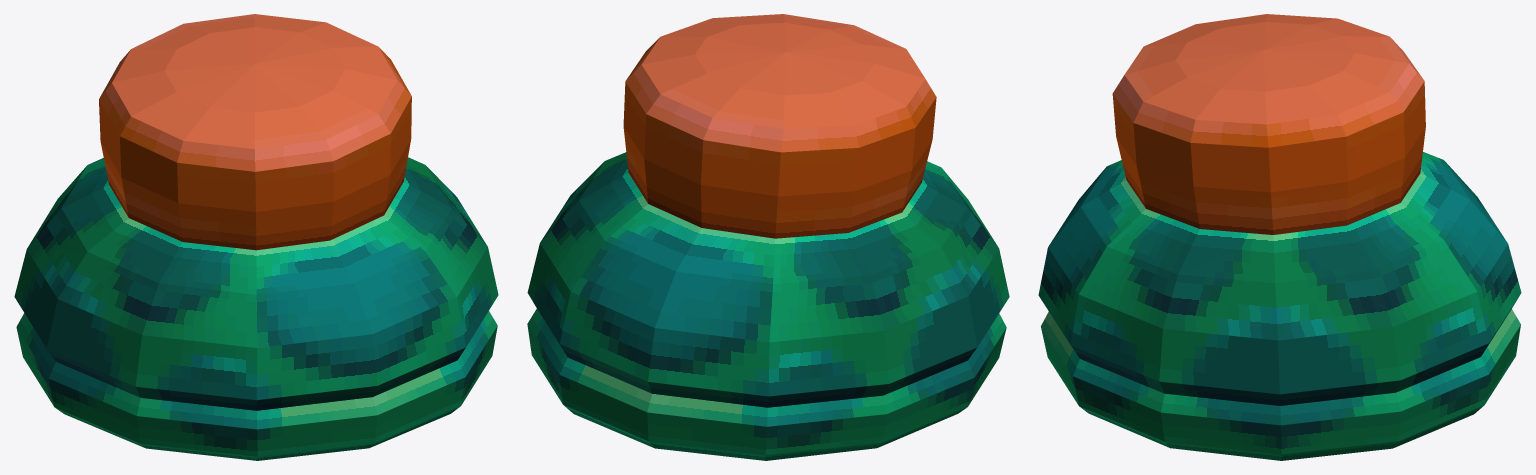
File: Land Mine.obj
3 views of the same model, side by side, from view 1: azimuth 30°, elevation 25°; view 2: azimuth 150°, elevation 25°; view 3: azimuth 270°, elevation 25° (orthographic).
Parts seen in each view (by area): view 1: Inst3D_RefRep.291; view 2: Inst3D_RefRep.291; view 3: Inst3D_RefRep.291.
Part boxes in pixels (bbox=[...]): Inst3D_RefRep.291: bbox=[14, 14, 498, 460]; Inst3D_RefRep.291: bbox=[527, 14, 1009, 460]; Inst3D_RefRep.291: bbox=[1038, 14, 1521, 460].
Bounding box in the file's own units: 2.15 × 1.53 × 2.15.
